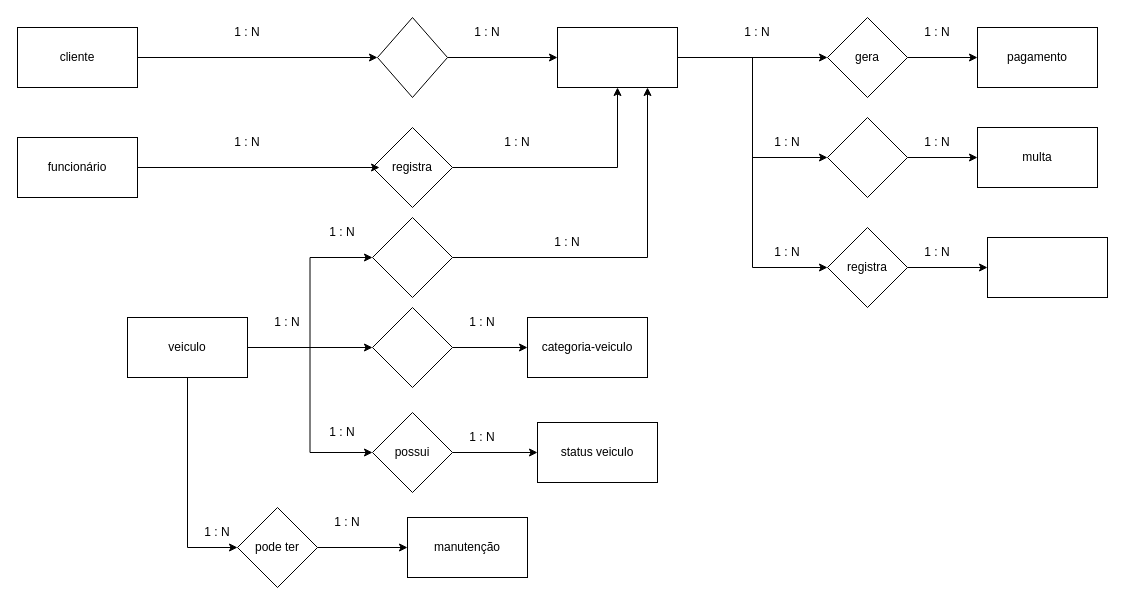
Some shapes in this 1125 by 605 pixel diagram are drawn without their labels. Each missing label, with the centre of its shape:
contrato-locação: (617,57)
histórico quilometragem: (1047,267)
participa de: (412,257)
pertence a: (412,347)
pode gerar: (867,157)
realiza: (412,57)
